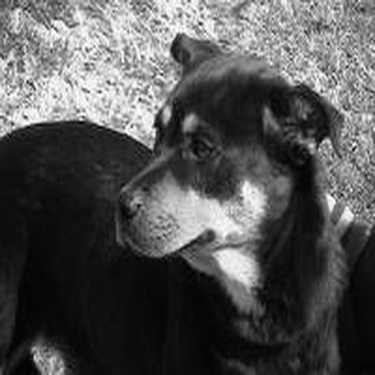dog: (3, 26, 353, 373)
